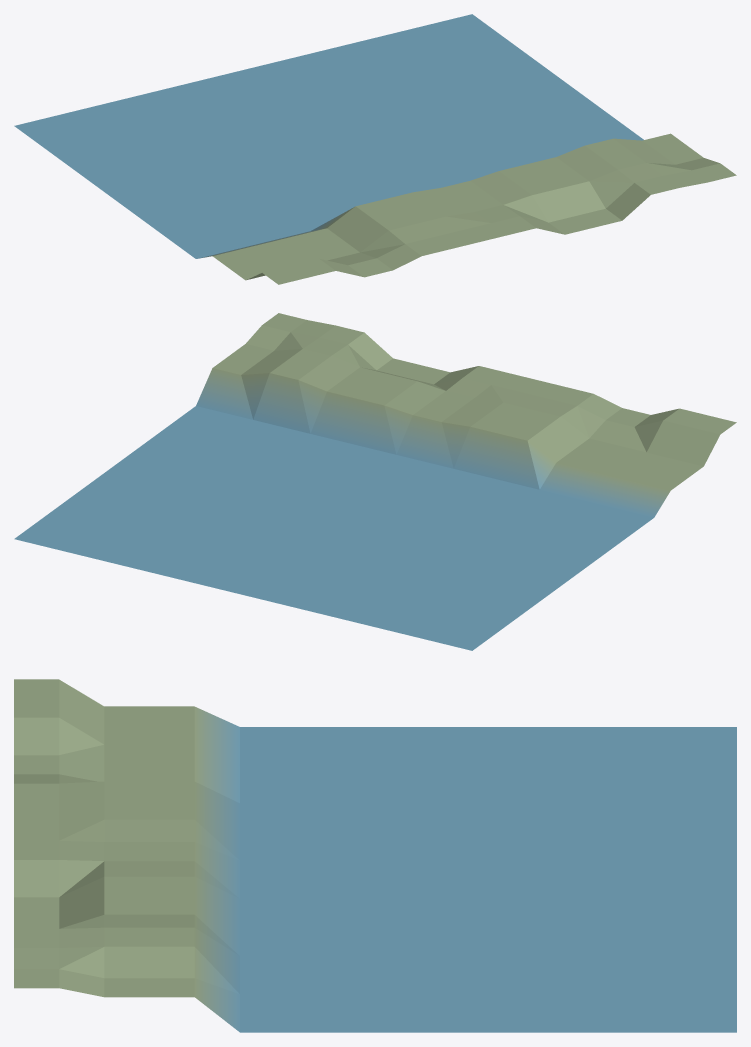
3 views of the same model, one above another, from view 1: azimuth 30°, elevation 25°; view 2: azimuth 150°, elevation 25°; view 3: azimuth 270°, elevation 25° (orthographic). The views are drawn at different scales.
Bounding box in the file's own units: 32 × 2.32 × 32.
